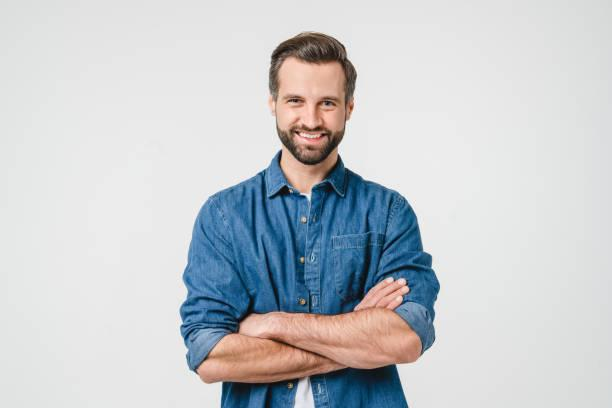no_goggle: (282, 87, 354, 115)
no_helmet: (264, 21, 360, 101)
no_vest: (175, 141, 448, 408)
